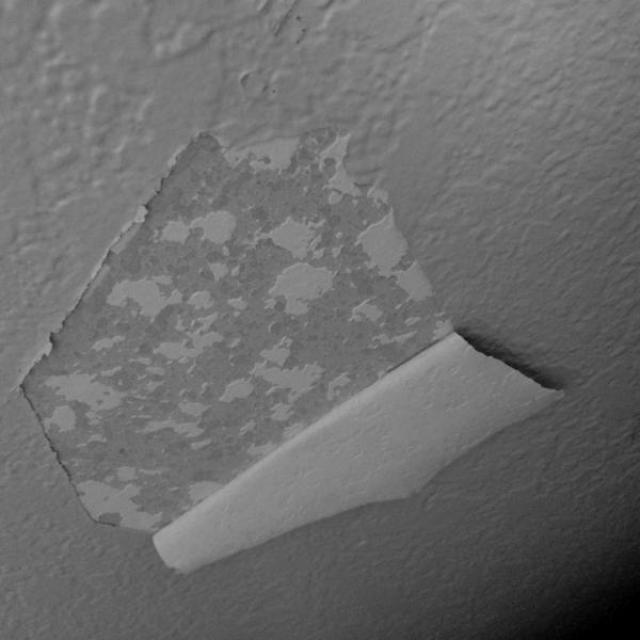peeling paint: (0, 91, 605, 578)
